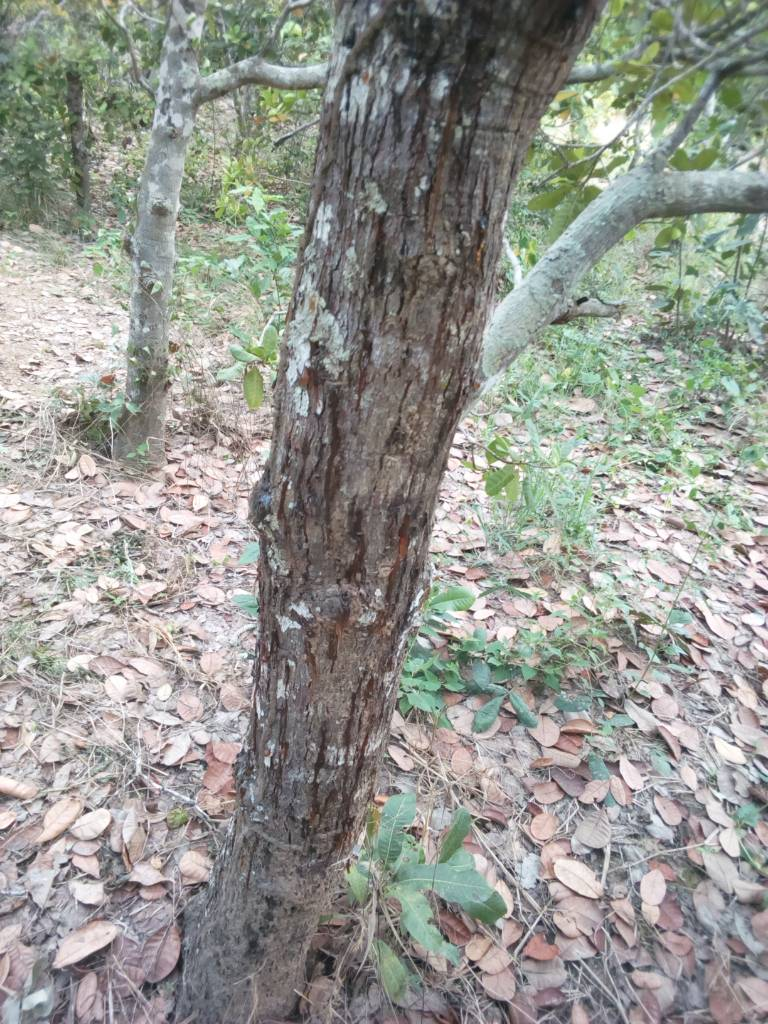Gommose: (252, 21, 455, 858)
